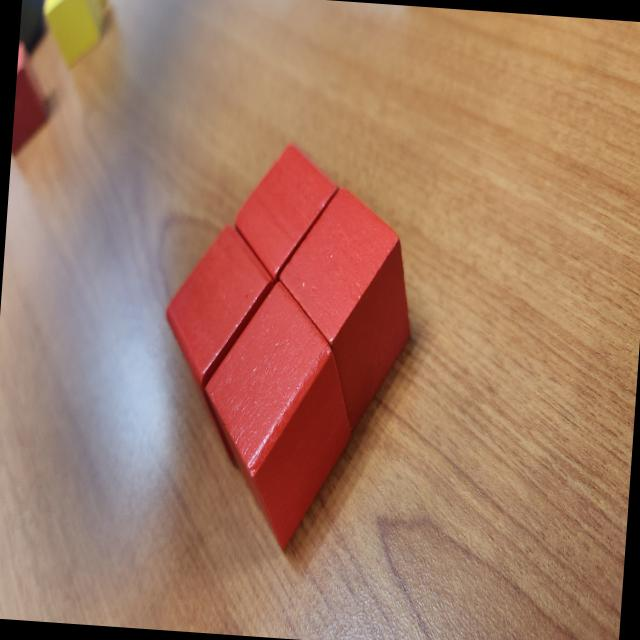red: (190, 276, 363, 556), (266, 181, 420, 448), (158, 221, 276, 439), (230, 140, 340, 284), (11, 39, 54, 160)
yellow: (37, 0, 108, 74)
